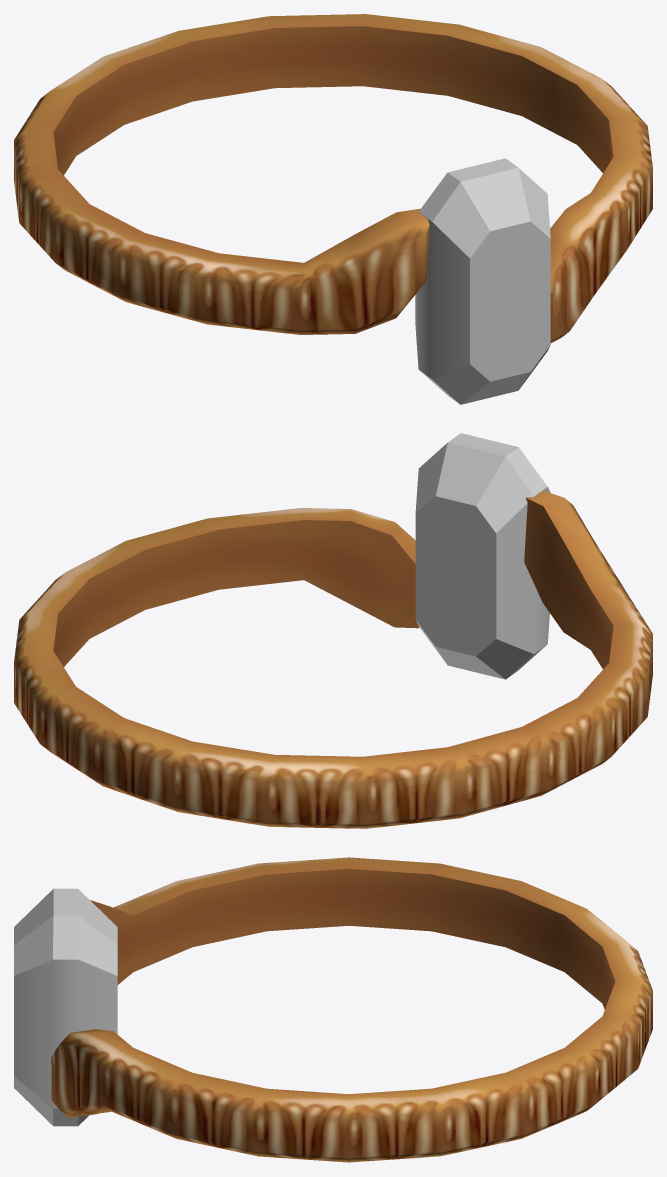
File: ring_copper_02.fbx
3 renders of one model, top to bottom at view 1: azimuth 30°, elevation 25°; view 2: azimuth 150°, elevation 25°; view 3: azimuth 270°, elevation 25°, orthographic. The views are drawn at different scales.
Parts seen in each view (by area): view 1: ring_copper_02; view 2: ring_copper_02; view 3: ring_copper_02.
Boxes of the visible parts, x1=… form: ring_copper_02: x1=14, y1=14, x2=652, y2=404; ring_copper_02: x1=14, y1=433, x2=652, y2=828; ring_copper_02: x1=14, y1=857, x2=652, y2=1162.
Size of the model in its own units: 2.04 by 0.783 by 2.15.
